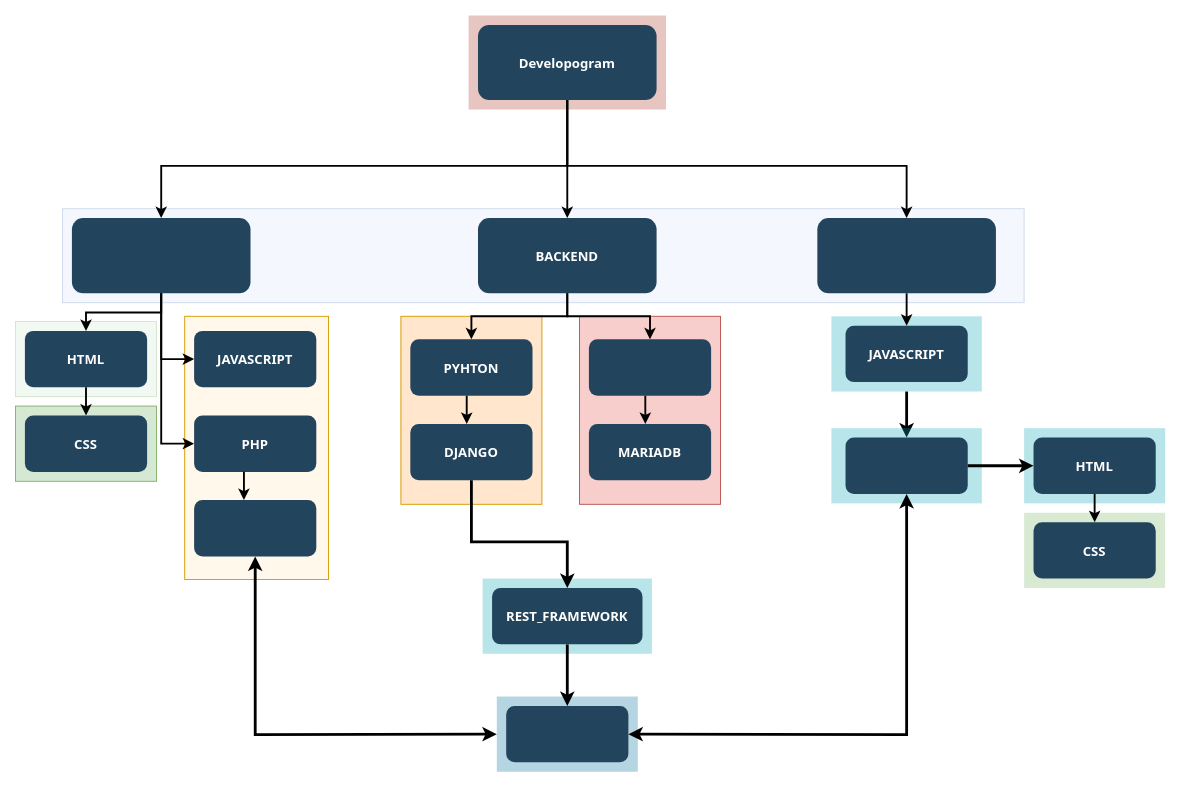
Some shapes in this 1181 by 787 pixel diagram are drawn without their labels. The box of each missing label's shape, as (x1, y1, x2, y2) in pixels:
API: (506, 705, 628, 762)
CODEIGNITER: (194, 500, 316, 556)
FRONTEND: (71, 218, 250, 293)
MOBILE: (817, 218, 995, 293)
MYSQL: (588, 339, 711, 395)
REACTNATIVE: (845, 437, 967, 494)
